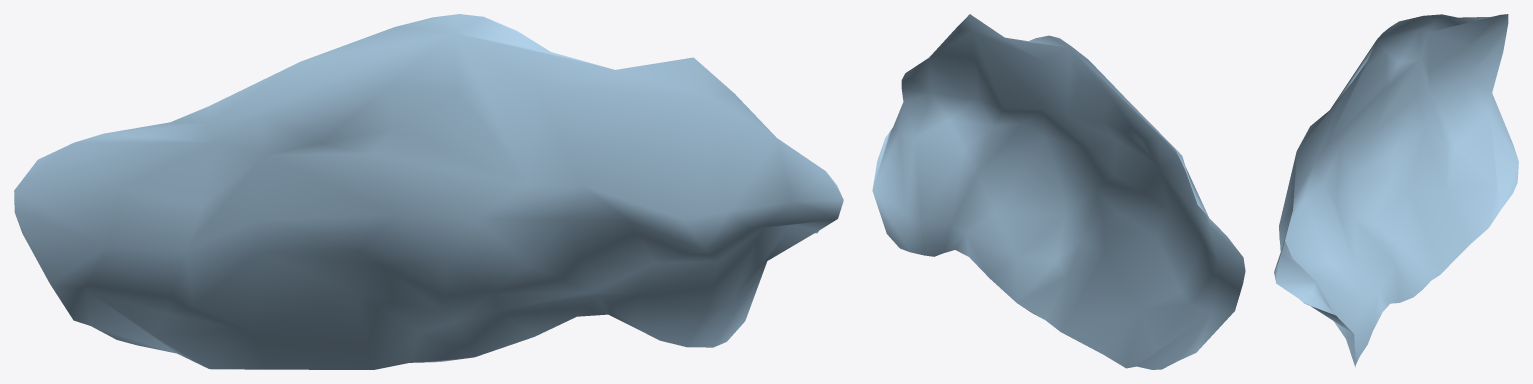
File: RS-4Y_ice03BREAK.fbx
3 renders of one model, left to right at view 1: azimuth 30°, elevation 25°; view 2: azimuth 150°, elevation 25°; view 3: azimuth 270°, elevation 25°, orthographic. The views are drawn at different scales.
Parts seen in each view (by area): view 1: RS-4Y_ice03BREAK.001; view 2: RS-4Y_ice03BREAK.001; view 3: RS-4Y_ice03BREAK.001.
Boxes of the visible parts, box(x1,y1,x2,y2) form: RS-4Y_ice03BREAK.001: box(14, 14, 843, 369); RS-4Y_ice03BREAK.001: box(872, 14, 1245, 369); RS-4Y_ice03BREAK.001: box(1274, 14, 1518, 367).
Size of the model in its own units: 1085 by 592 by 512.
